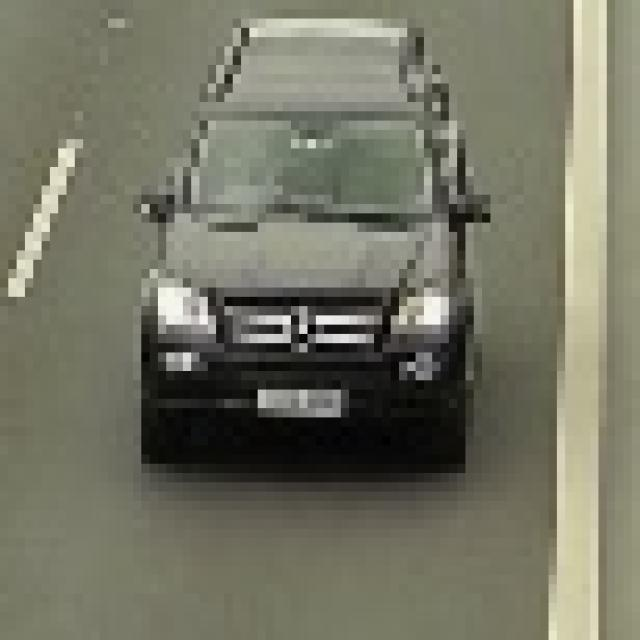SUV: (157, 26, 463, 474)
